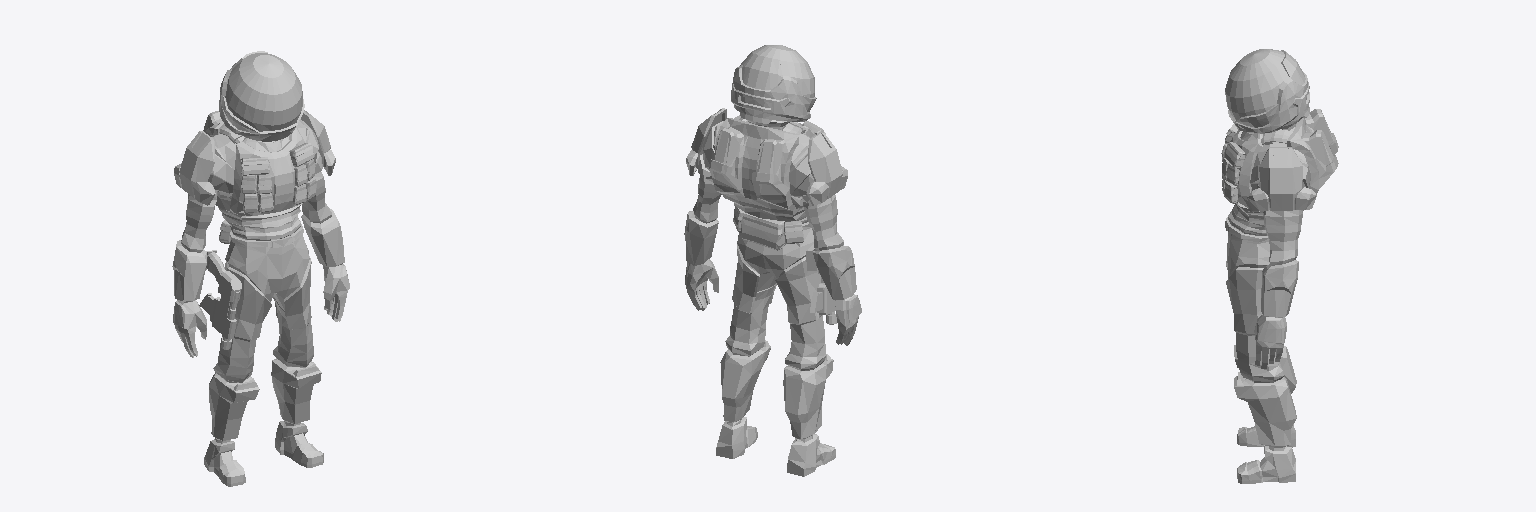
The model's file is mdlCommandoSkin3.obj.
The picture shows the model from 3 angles: view 1: azimuth 30°, elevation 25°; view 2: azimuth 150°, elevation 25°; view 3: azimuth 270°, elevation 25°; orthographic projection.
Visible parts, largest first — view 1: mdlCommandoSkin3_0; view 2: mdlCommandoSkin3_0; view 3: mdlCommandoSkin3_0.
Boxes of the visible parts, <box> form: mdlCommandoSkin3_0: <box>172,51,349,486</box>; mdlCommandoSkin3_0: <box>684,45,861,476</box>; mdlCommandoSkin3_0: <box>1221,49,1338,483</box>.
Size of the model in its own units: 0.8405 by 1.95 by 0.5079.